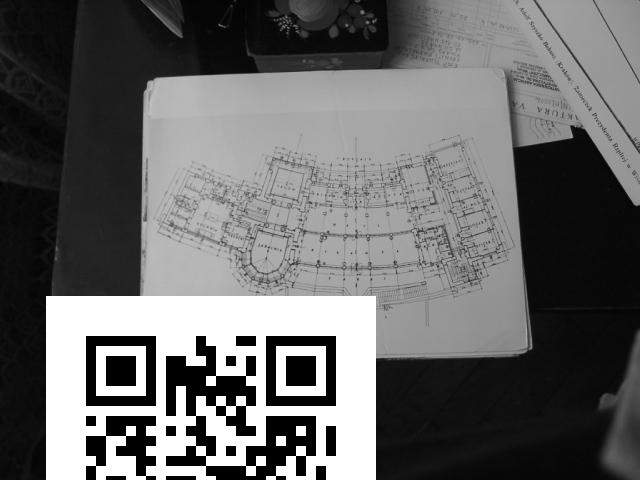qr_code: (44, 302, 376, 480)
